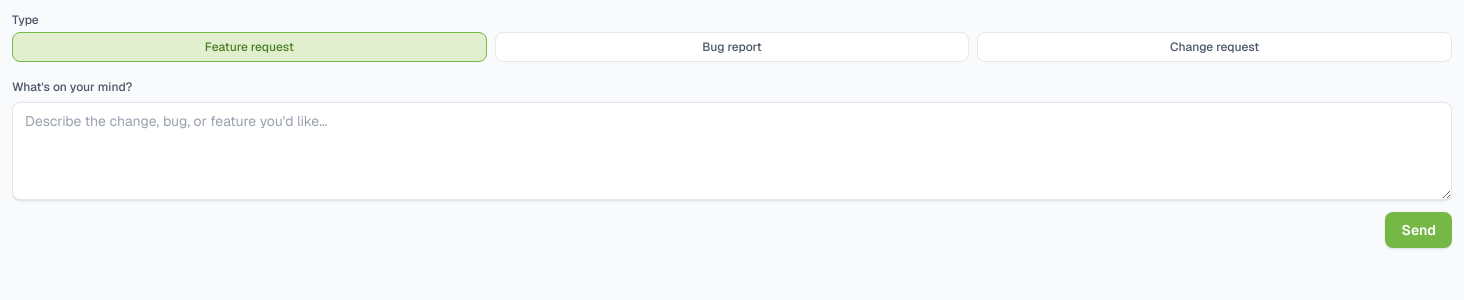
Test case: FeatureRequestForm — the typed message survives a failed submit › a retry after a thrown action sends normally
Type "Please add a dark mode" into the text box labelled "What's on your mind?" at (732, 151), box [12,102,1452,200]
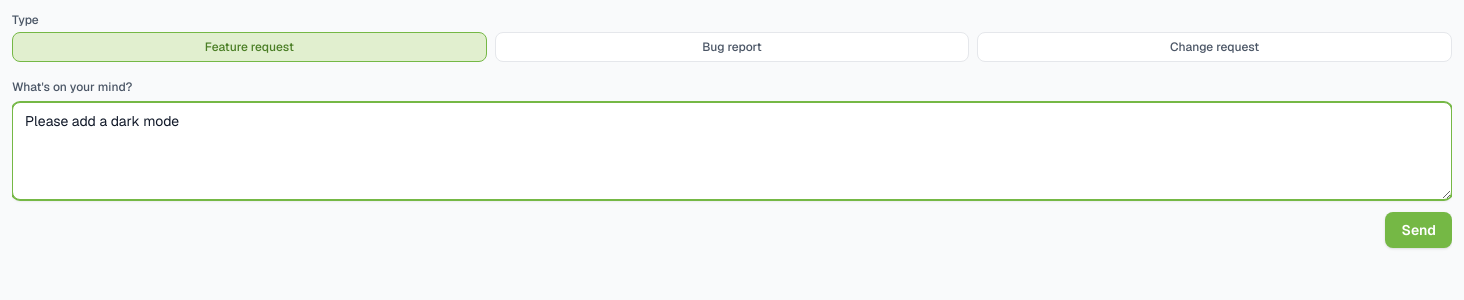
Click the button "Send" at (1419, 230), box [1386,212,1452,248]
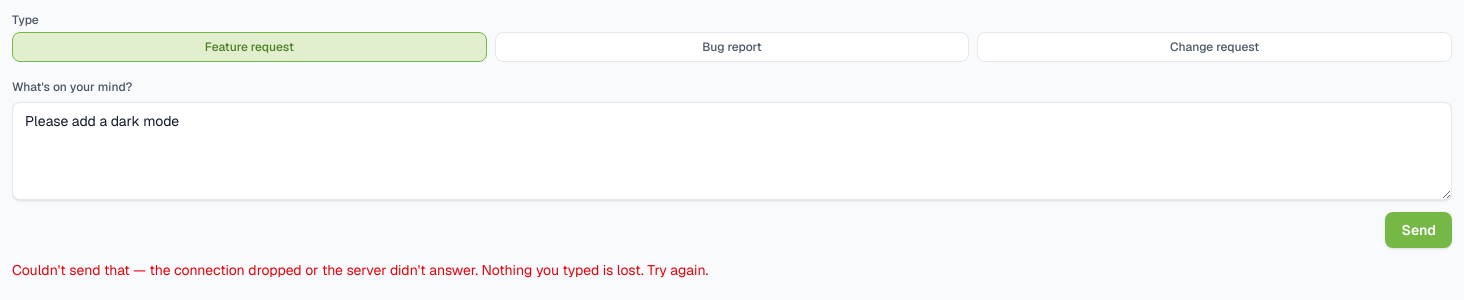
Click the button "Send" at (1419, 230), box [1386,212,1452,248]
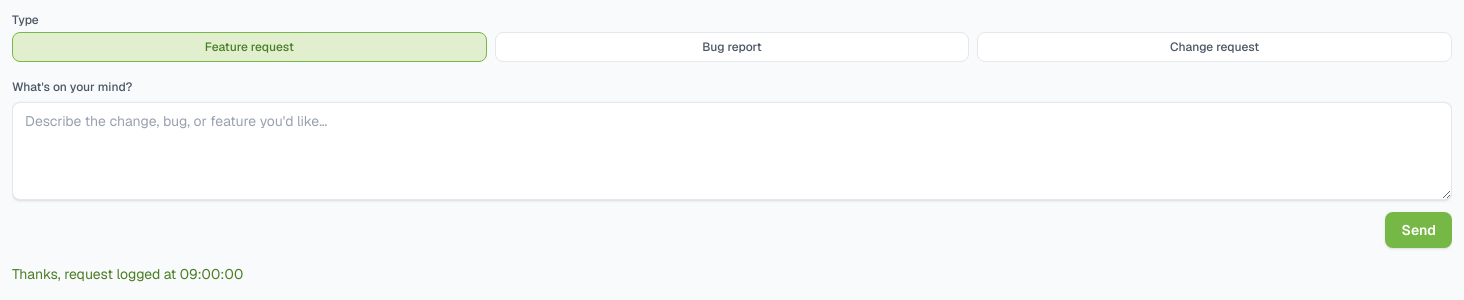
Now the text "Thanks, request logged at 09:00:00" is shown, box [12,265,243,283]
